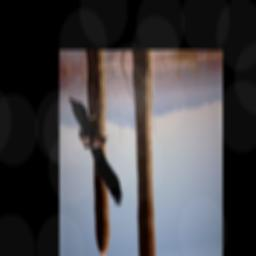Crow: (68, 89, 124, 214)
